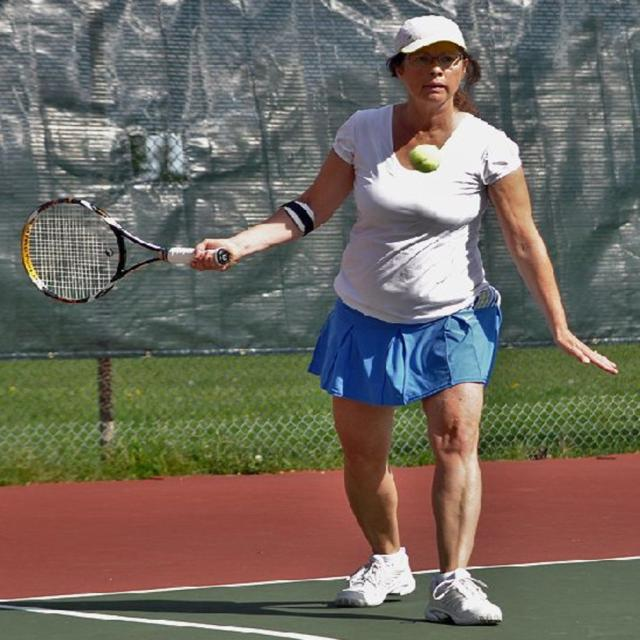Tennis ball: (410, 144, 440, 173)
